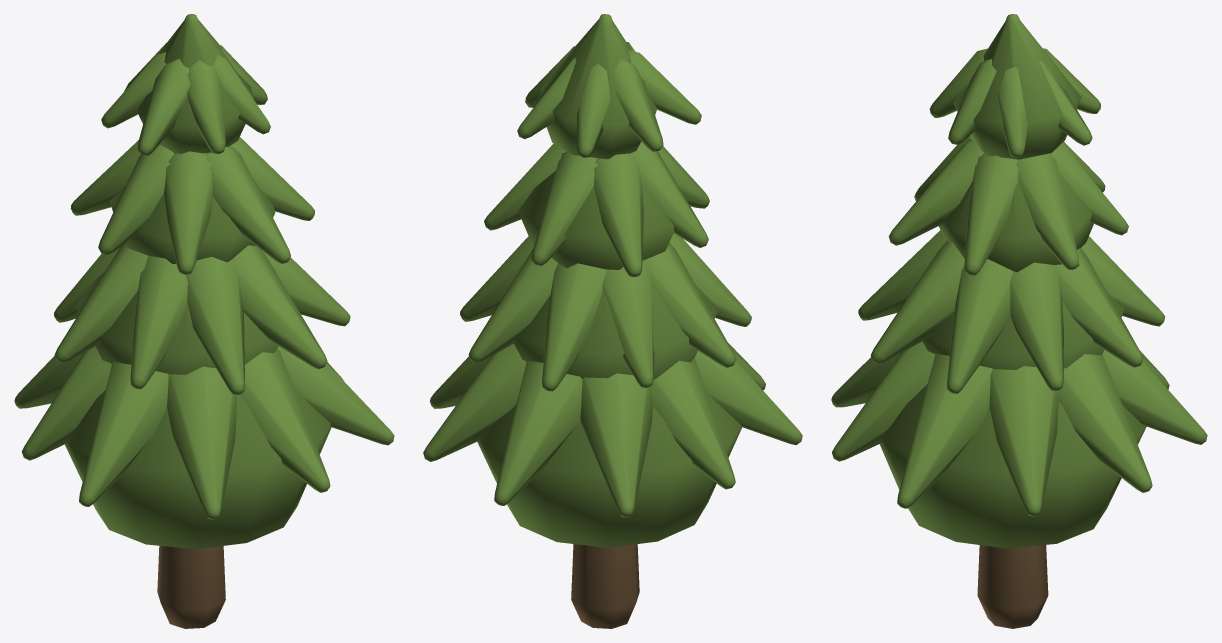
The model's file is prop_pinefalse_51b2.glb.
The picture shows the model from 3 angles, left to right: view 1: azimuth 30°, elevation 25°; view 2: azimuth 150°, elevation 25°; view 3: azimuth 270°, elevation 25°; orthographic projection.
Visible parts, largest first — view 1: prop_pinefalse_51b2; view 2: prop_pinefalse_51b2; view 3: prop_pinefalse_51b2.
Part boxes in pixels (bbox=[...]): prop_pinefalse_51b2: bbox=[14, 14, 394, 628]; prop_pinefalse_51b2: bbox=[423, 14, 802, 628]; prop_pinefalse_51b2: bbox=[831, 14, 1207, 628].
Bounding box in the file's own units: 1.28 × 2.36 × 1.31.
Materials: 1 (1 with a texture image).
